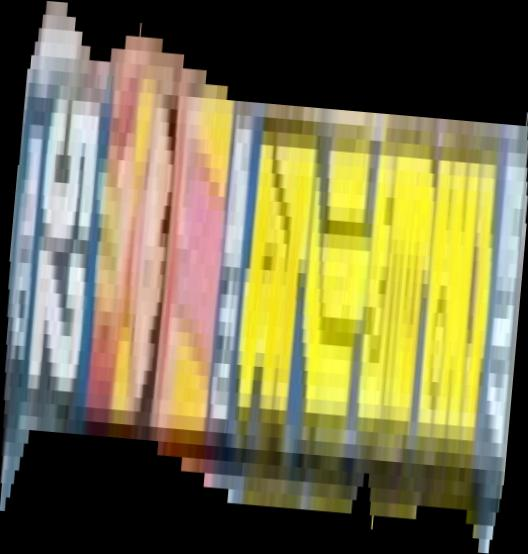flat: (1, 1, 528, 554)
